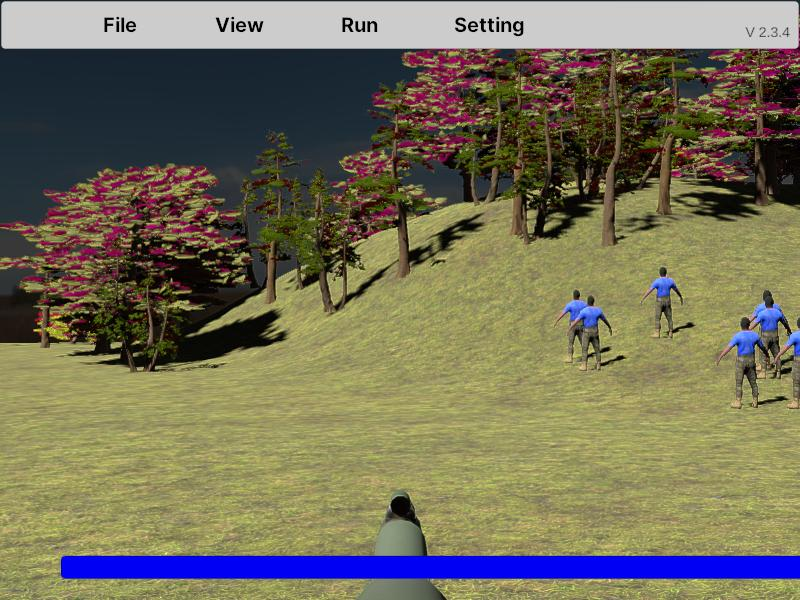Human: (717, 316, 771, 409), (747, 292, 792, 380), (571, 294, 613, 371), (642, 265, 684, 339), (554, 288, 592, 364), (776, 318, 800, 411)
